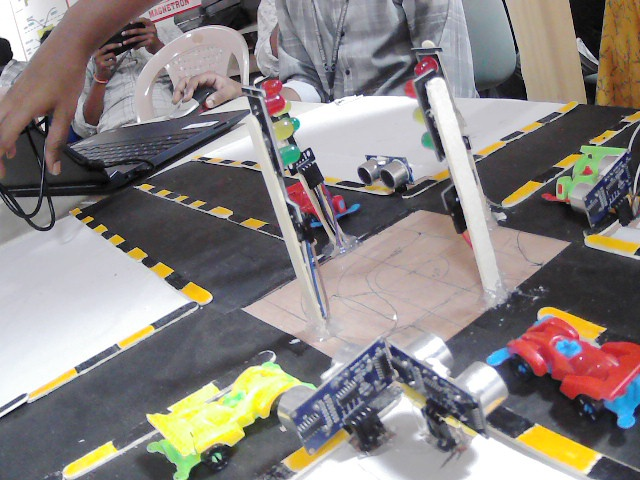black_strip: (216, 350, 272, 388), (113, 417, 157, 449), (152, 301, 198, 328), (489, 409, 531, 438), (77, 346, 119, 372), (589, 458, 640, 478), (404, 177, 443, 198), (534, 161, 566, 184), (0, 393, 28, 415), (260, 463, 287, 480), (0, 396, 27, 413), (167, 271, 192, 288), (502, 126, 528, 140), (572, 140, 591, 157), (612, 113, 631, 130), (190, 199, 211, 213), (339, 176, 363, 188), (119, 237, 138, 252), (537, 112, 557, 126), (579, 90, 597, 105), (226, 210, 249, 221), (260, 222, 282, 233), (144, 256, 160, 271), (41, 471, 67, 480), (232, 207, 249, 220), (104, 227, 119, 239), (628, 245, 639, 258), (149, 183, 162, 194), (197, 151, 208, 162), (171, 186, 181, 198), (150, 183, 162, 192), (90, 218, 100, 228), (77, 210, 88, 219), (241, 160, 254, 167), (221, 159, 231, 165)
car: (491, 317, 640, 454), (151, 365, 305, 480), (543, 151, 610, 204), (280, 180, 355, 215)
mixed_lane: (38, 347, 274, 480), (1, 301, 203, 417), (504, 107, 640, 210), (69, 210, 211, 304), (484, 404, 640, 480), (143, 183, 284, 239), (473, 101, 575, 162), (261, 428, 356, 480), (540, 307, 640, 343), (321, 175, 396, 196), (406, 166, 455, 197), (584, 231, 640, 258), (191, 155, 264, 173)
traffic_light: (405, 71, 451, 167), (253, 90, 300, 167), (254, 70, 304, 140), (406, 43, 449, 83)
uno_breadboard: (276, 342, 409, 448), (398, 331, 520, 436), (564, 163, 640, 227)
yellow_strip: (518, 425, 599, 475), (152, 384, 218, 425), (538, 307, 603, 342), (63, 441, 115, 480), (26, 365, 77, 397), (586, 233, 640, 254), (503, 178, 543, 205), (115, 326, 154, 349), (182, 281, 212, 305), (484, 139, 510, 157), (591, 129, 620, 144), (362, 183, 392, 194), (148, 264, 173, 277), (557, 99, 578, 113), (562, 152, 580, 167), (127, 248, 149, 260), (622, 108, 640, 122), (520, 120, 542, 130), (209, 206, 230, 215), (243, 218, 263, 227), (171, 194, 186, 205), (110, 233, 125, 244), (324, 176, 338, 186), (94, 223, 108, 233), (159, 188, 171, 199), (141, 183, 155, 191), (253, 162, 264, 171), (71, 207, 82, 215), (231, 159, 241, 166), (208, 158, 221, 163), (85, 215, 92, 223)
